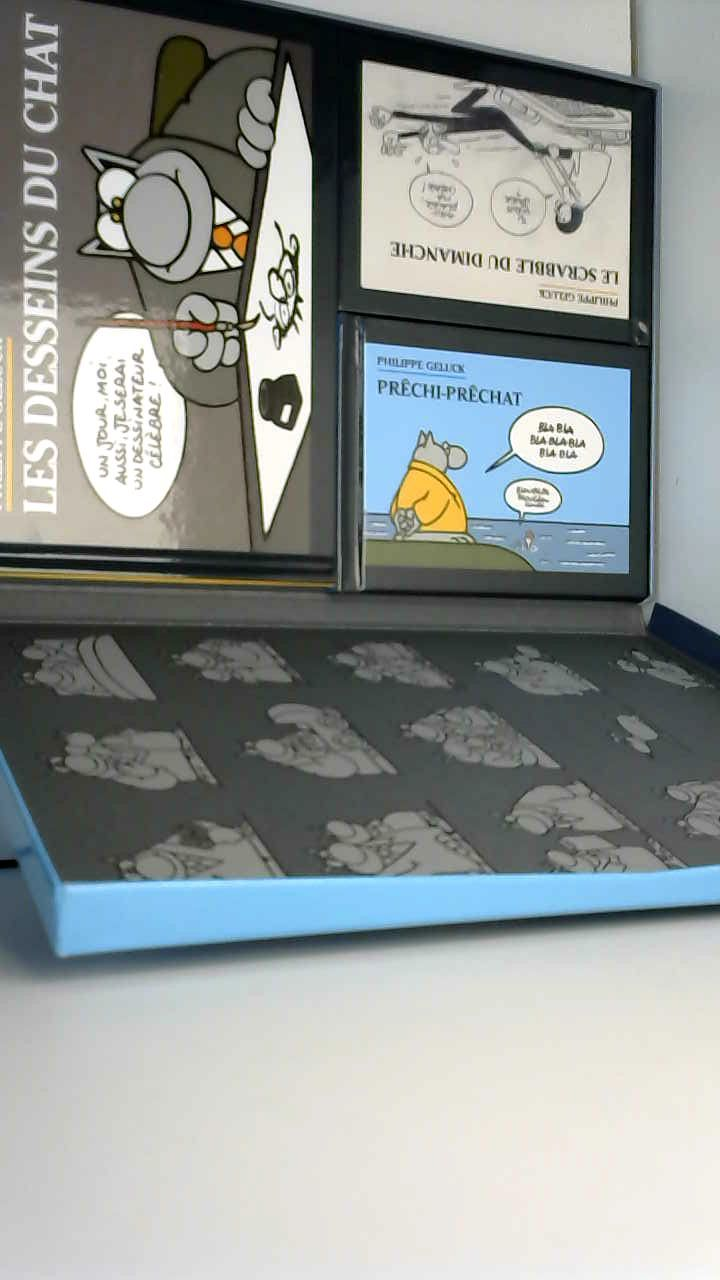book: (0, 0, 720, 977)
